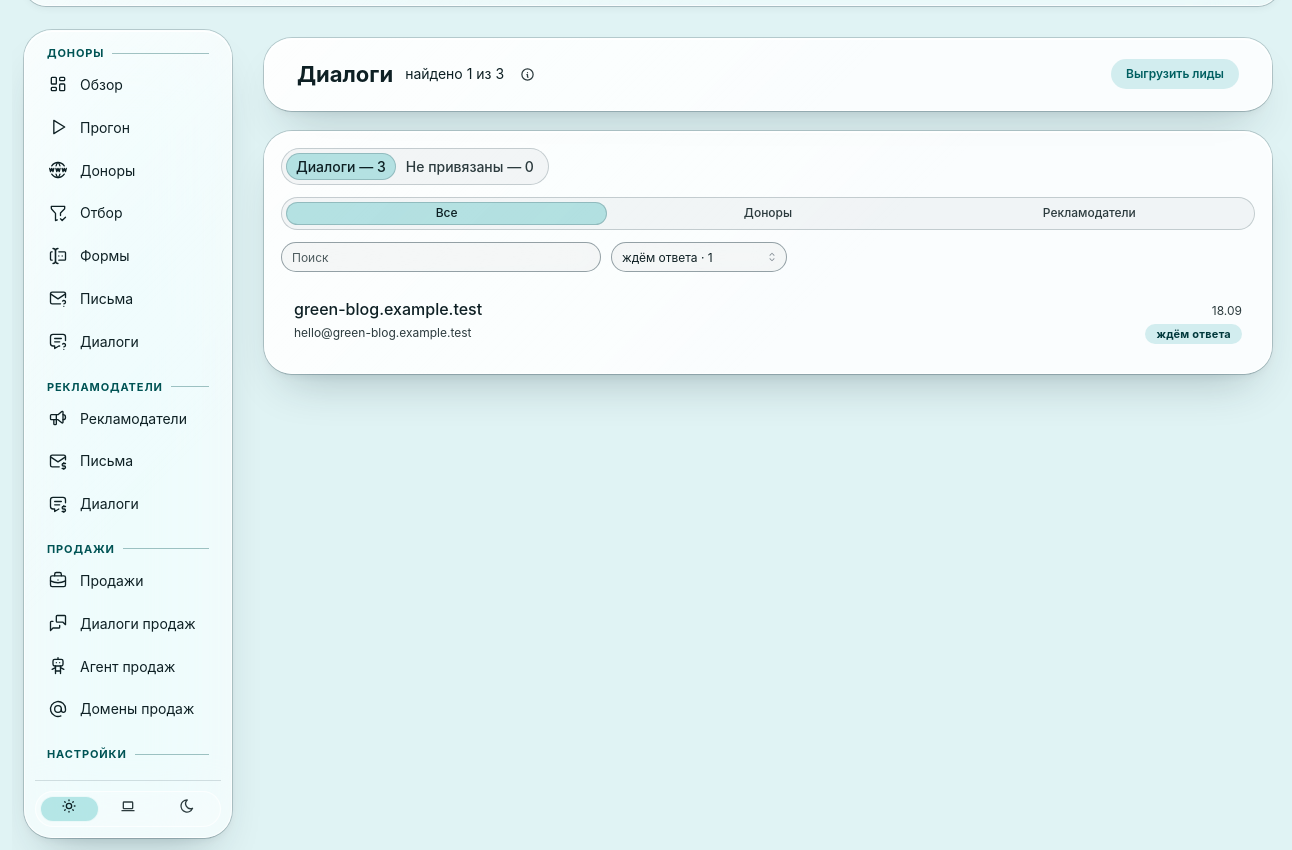
Scenario: диалоги › из отфильтрованного списка в диалог и «К списку» — обратно с фильтром
Click the link "green-blog.example.test".
click(337, 309)  # box [281,284,1255,357]
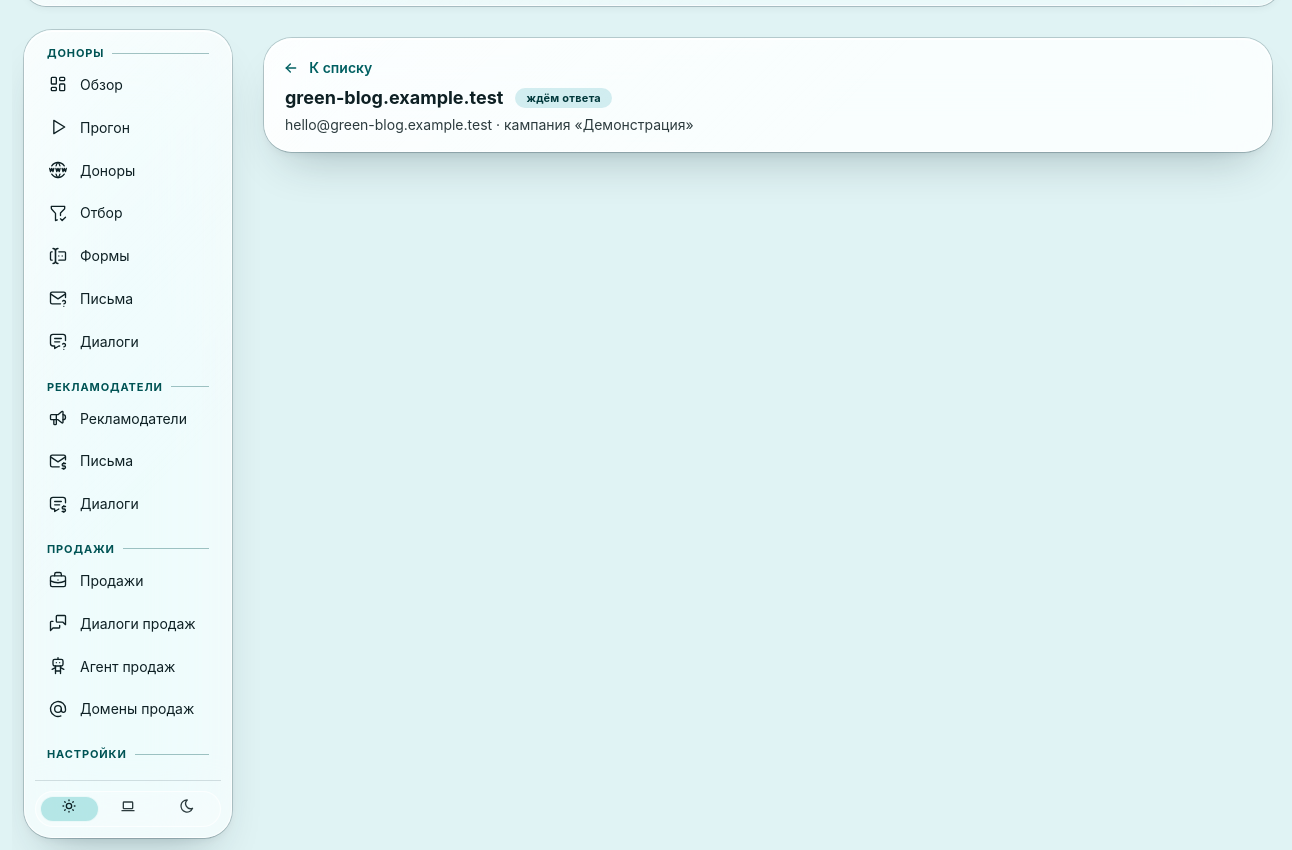
Click the link "К списку".
click(329, 68)  # box [277,55,381,81]
(page scrolled)
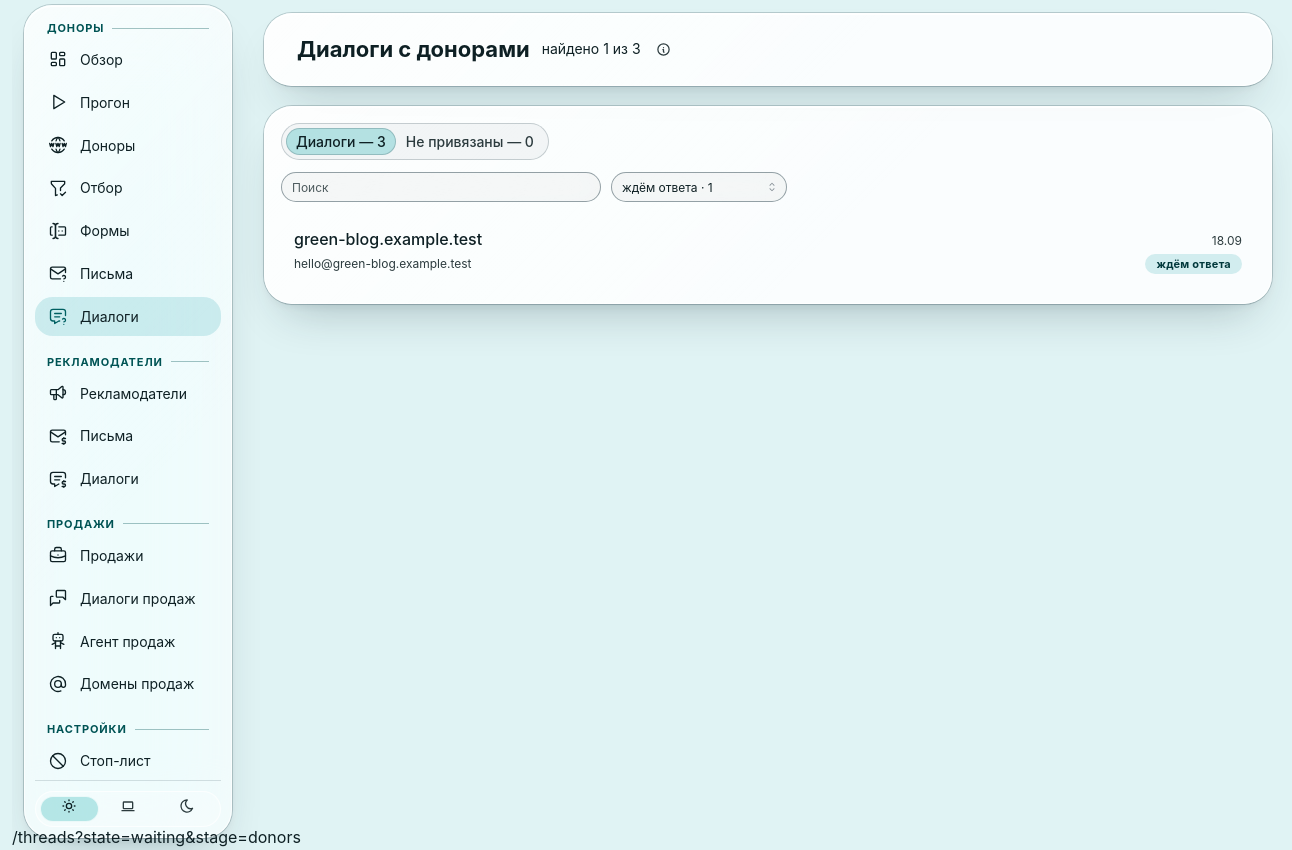
Expected: the text "green-blog.example.test" is shown, [294,228,482,252]
Now the text with test id "where" shows "/threads?state=waiting", box [12,827,301,847]
